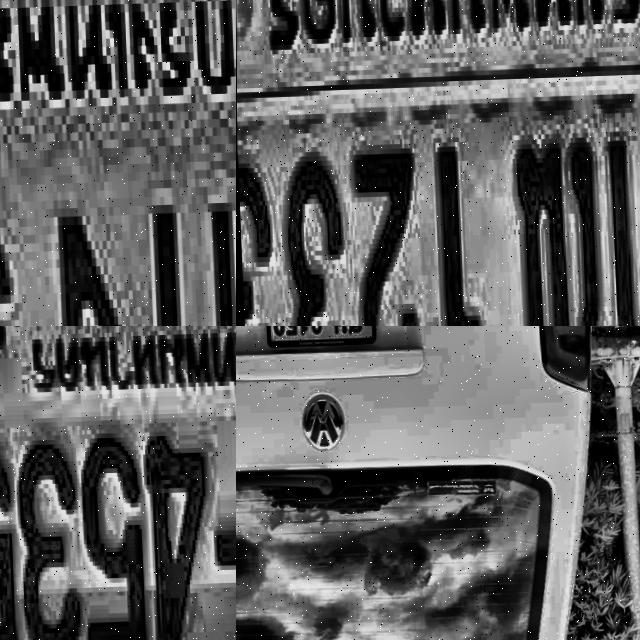license-plate: (236, 0, 640, 326), (0, 0, 236, 326), (0, 326, 236, 640), (259, 326, 376, 353)
